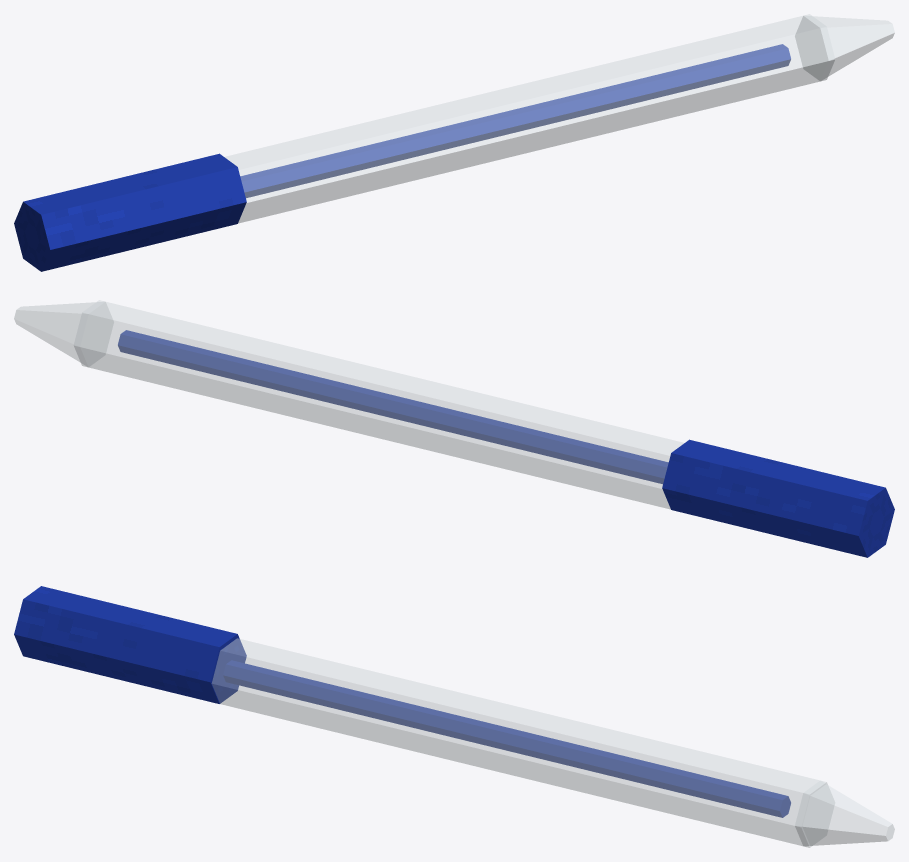
Rendered from blue_pen.glb.
The picture shows the model from 3 angles, top to bottom: view 1: azimuth 30°, elevation 25°; view 2: azimuth 150°, elevation 25°; view 3: azimuth 330°, elevation 25°; orthographic projection.
Visible parts, largest first — view 1: block_barrel, block_cap, block_refill, block_tip; view 2: block_barrel, block_cap, block_refill, block_tip; view 3: block_barrel, block_cap, block_refill, block_tip.
Part boxes in pixels (x1=…): block_barrel: x1=225, y1=14, x2=835, y2=223; block_cap: x1=14, y1=153, x2=246, y2=271; block_refill: x1=240, y1=44, x2=790, y2=197; block_tip: x1=795, y1=16, x2=894, y2=80; block_barrel: x1=73, y1=300, x2=683, y2=509; block_cap: x1=662, y1=439, x2=894, y2=557; block_refill: x1=118, y1=330, x2=668, y2=483; block_tip: x1=14, y1=302, x2=113, y2=366; block_barrel: x1=211, y1=638, x2=834, y2=847; block_cap: x1=14, y1=586, x2=246, y2=703; block_refill: x1=223, y1=660, x2=790, y2=817; block_tip: x1=795, y1=781, x2=894, y2=845.
Bounding box in the file's own units: 0.131 × 0.00835 × 0.0096.
2 materials, 2 textured.
